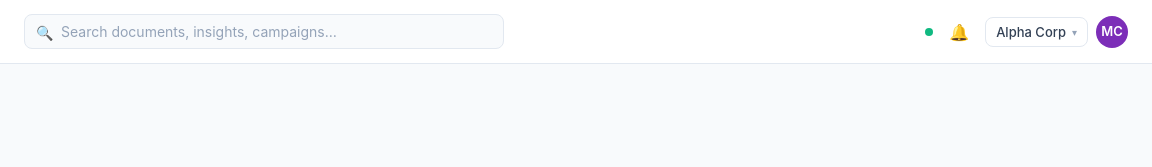
it: Header — user menu and sign-out › clicking user avatar opens user menu
The image size is (1152, 167).
Click the button with test id "user-avatar".
click(1112, 32)  # box [1096,16,1128,48]
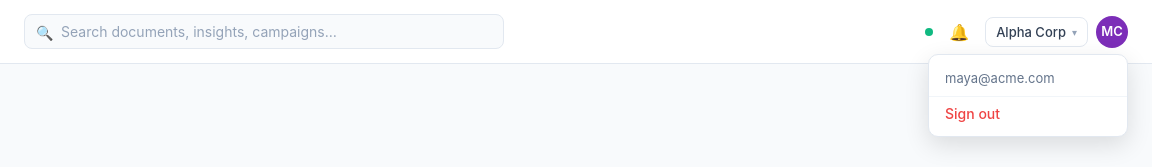
Check: the menu with test id "user-menu" is shown, box [928,54,1128,137]
